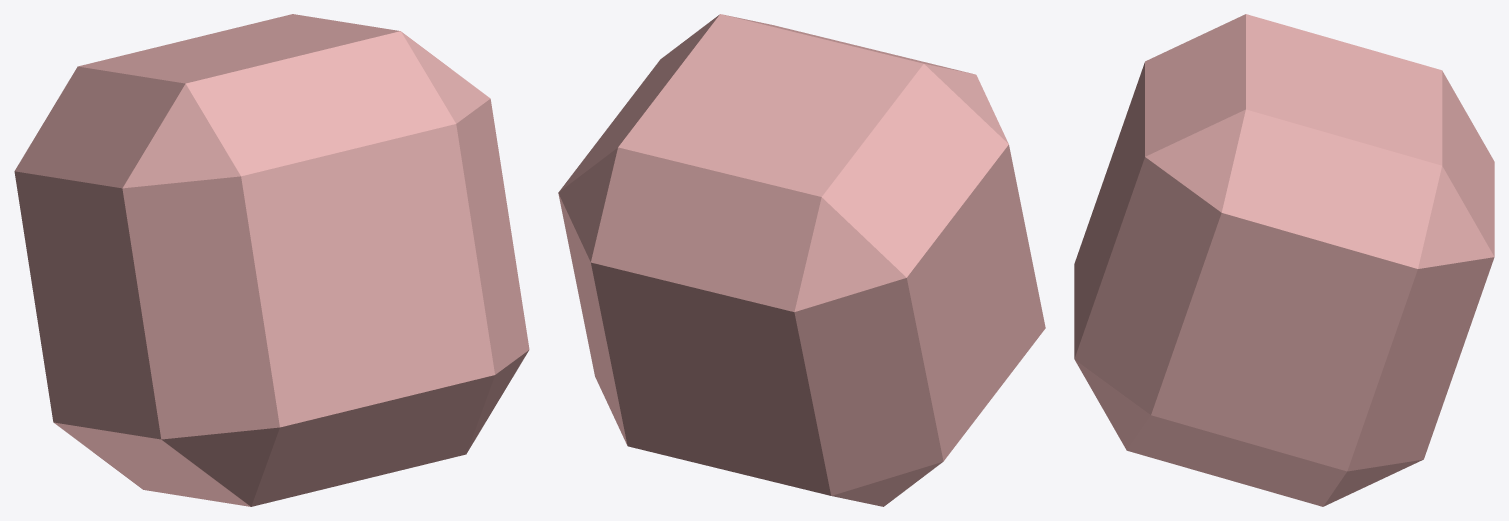
The model's file is fanalinoA_D.fbx.
3 views of the same model, side by side, from view 1: azimuth 30°, elevation 25°; view 2: azimuth 150°, elevation 25°; view 3: azimuth 270°, elevation 25° (orthographic). The views are drawn at different scales.
Parts seen in each view (by area): view 1: Symmetry_6; view 2: Symmetry_6; view 3: Symmetry_6.
Part boxes in pixels (x1,y1,x2,y2): Symmetry_6: (14, 14, 529, 506); Symmetry_6: (558, 14, 1045, 506); Symmetry_6: (1074, 14, 1494, 506).
Bounding box in the file's own units: 5.99 × 6.8 × 6.51.
